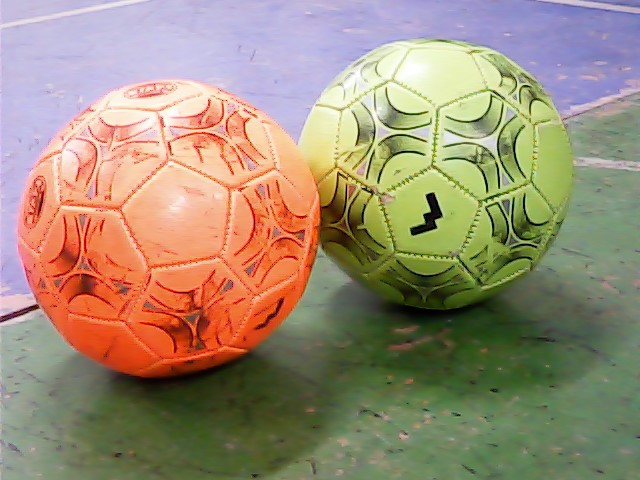Green_ball: (292, 30, 582, 316)
Orange_ball: (17, 67, 329, 380)
